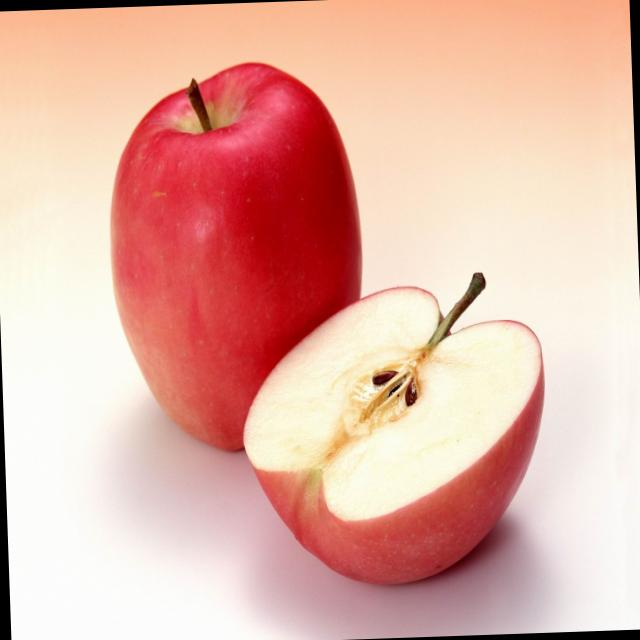apple: (107, 60, 380, 466)
